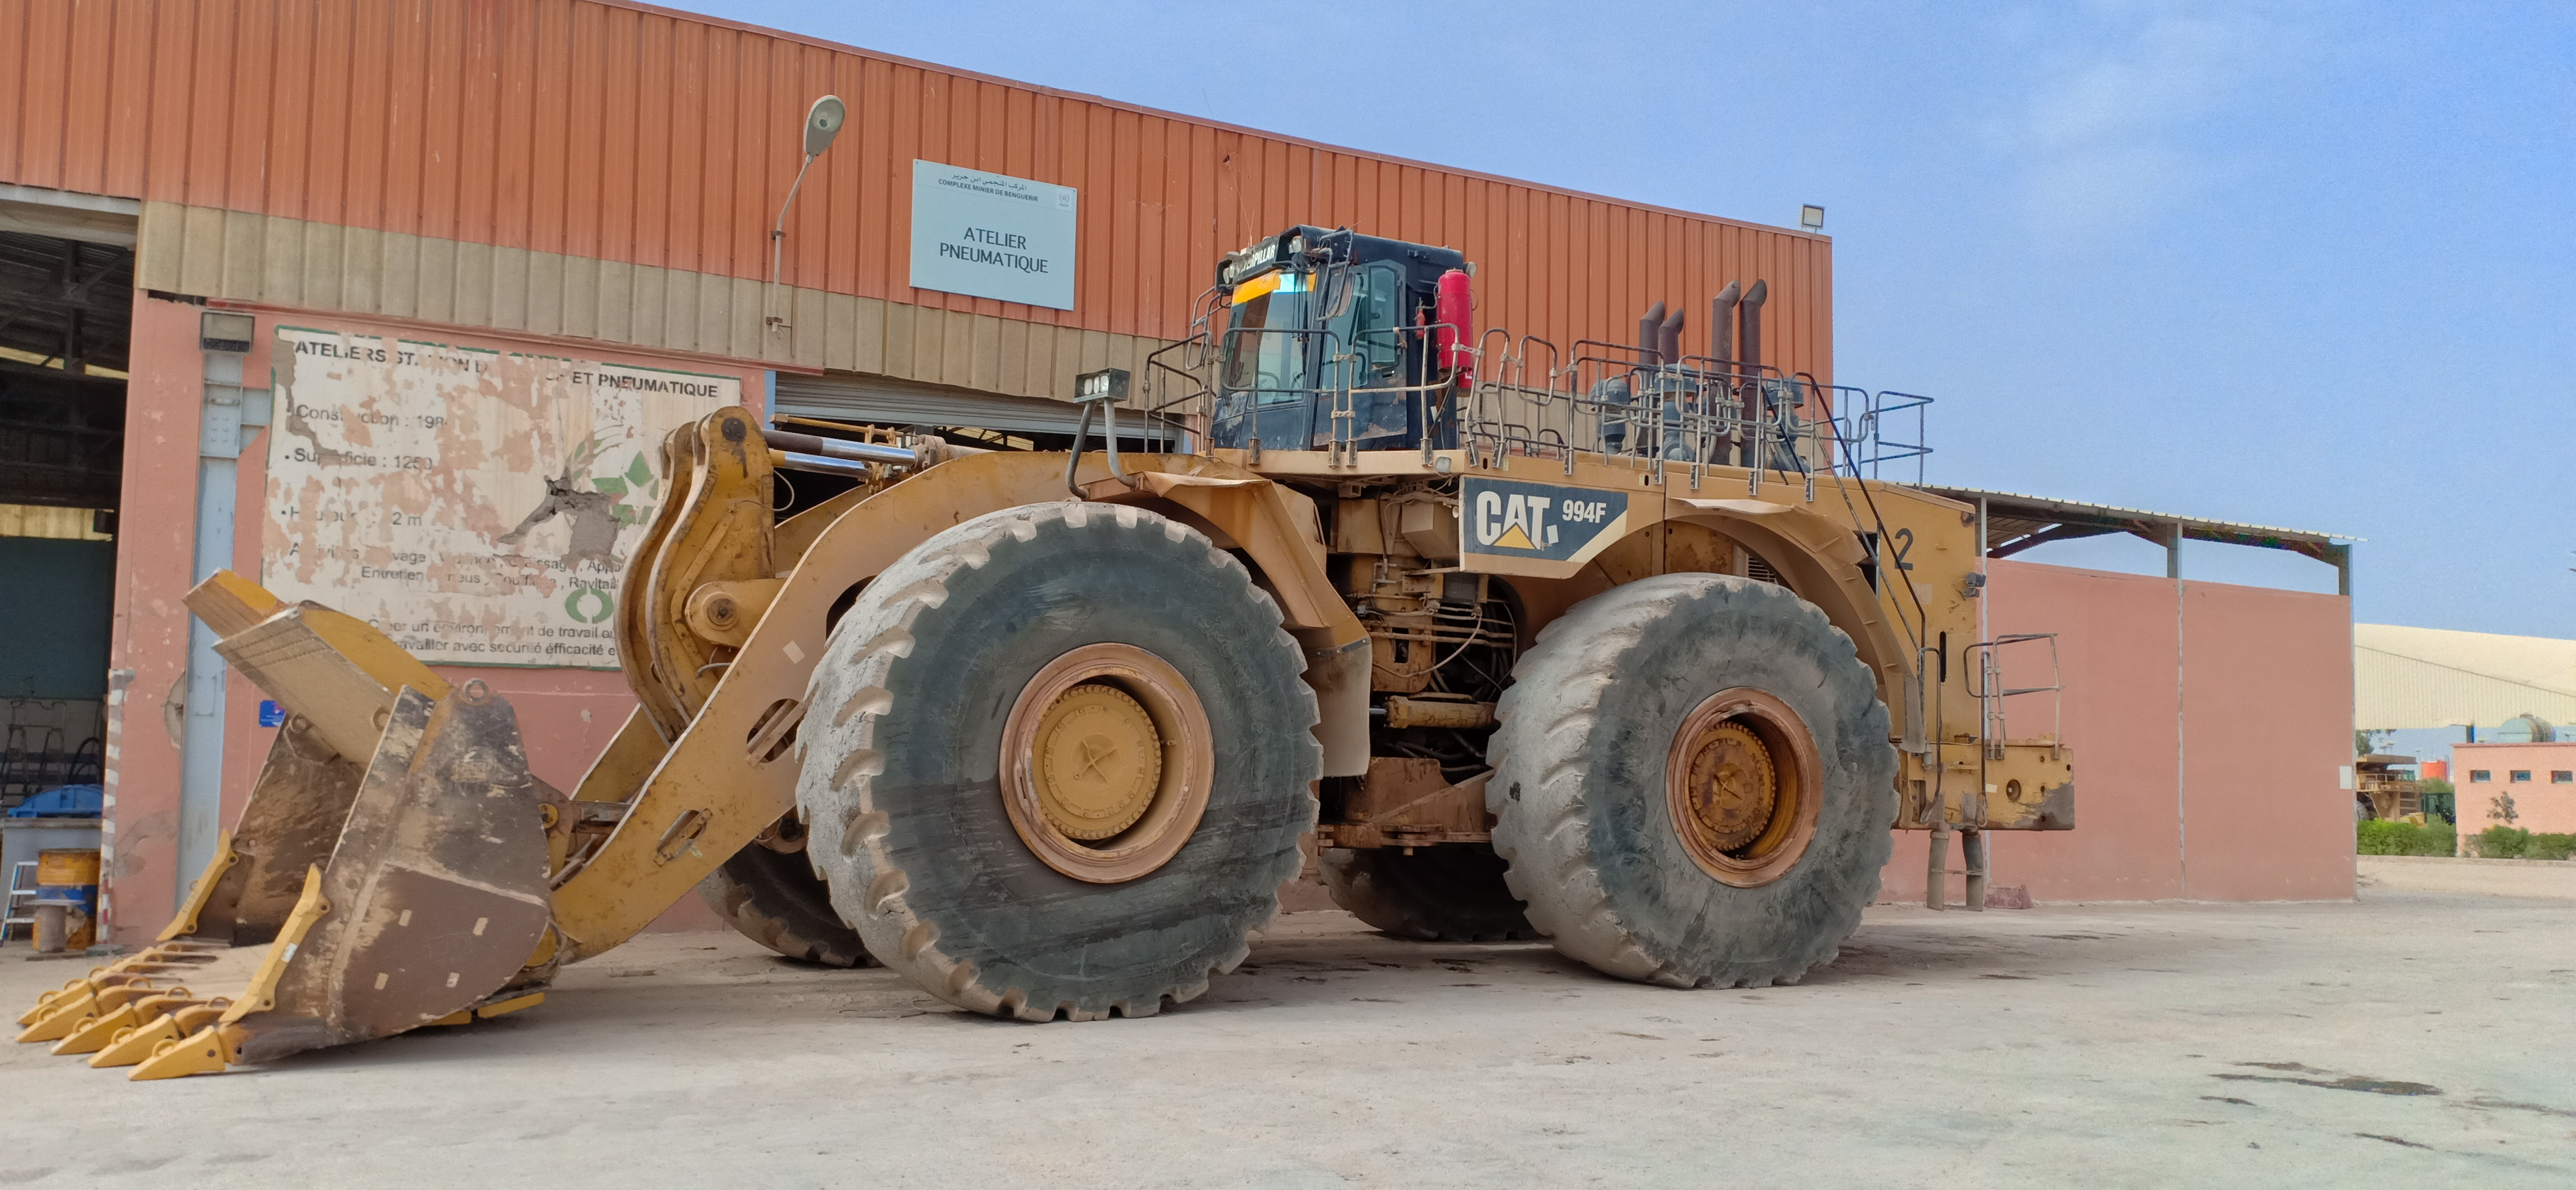chargeuse: (15, 233, 2137, 1131)
